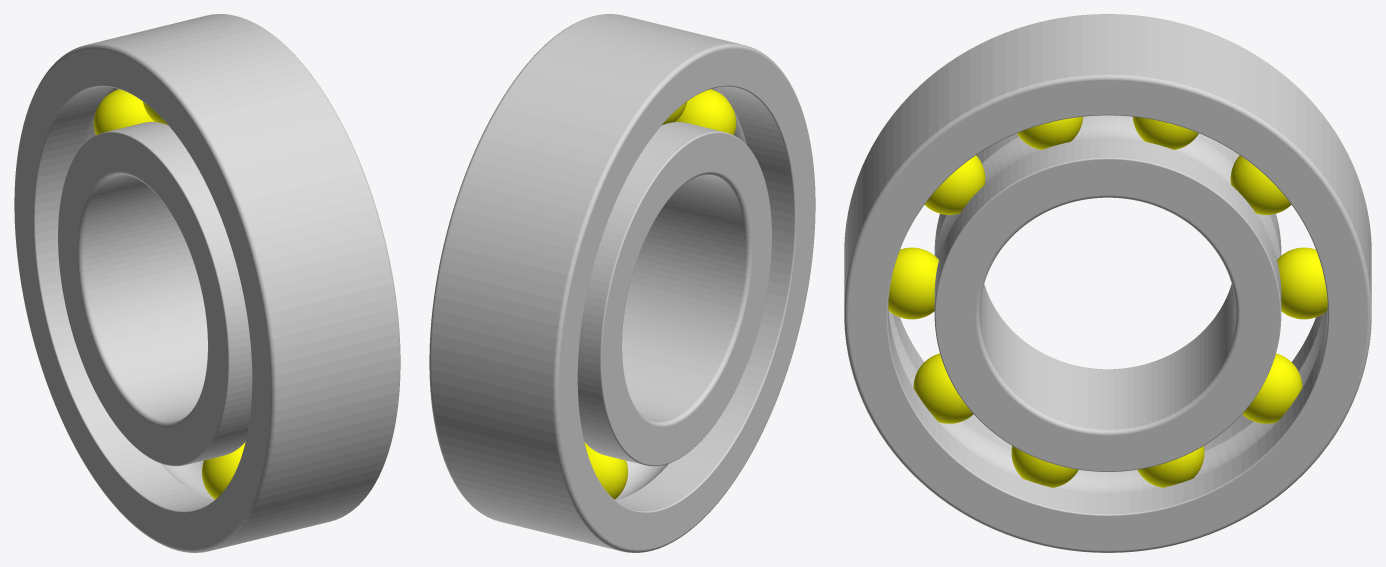
File: model_web.glb
3 views of the same model, side by side, from view 1: azimuth 30°, elevation 25°; view 2: azimuth 150°, elevation 25°; view 3: azimuth 270°, elevation 25° (orthographic).
Parts seen in each view (by area): view 1: Node1, Node2; view 2: Node1, Node2; view 3: Node1, Node2.
Boxes of the visible parts, x1,y1,x2,y2 form: Node1: (14, 14, 400, 552); Node2: (93, 89, 245, 499); Node1: (429, 14, 815, 552); Node2: (584, 89, 736, 499); Node1: (844, 14, 1371, 552); Node2: (888, 116, 1327, 487).
Size of the model in its own units: 10 by 35 by 34.99.
